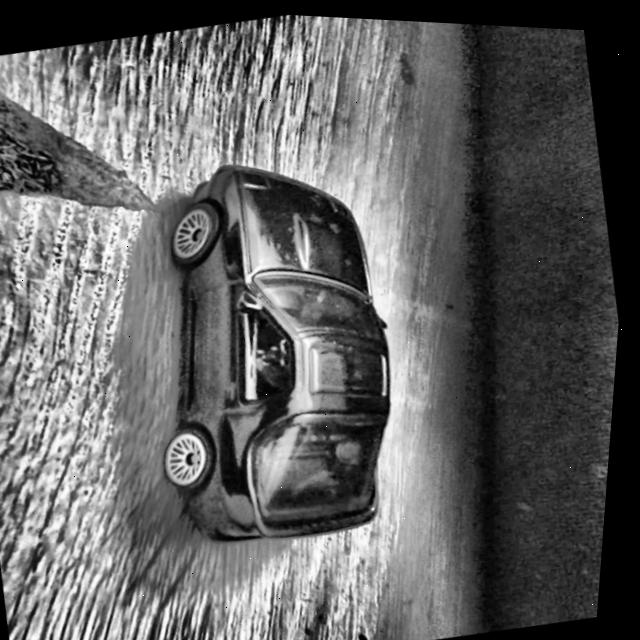car: (109, 132, 441, 563)
